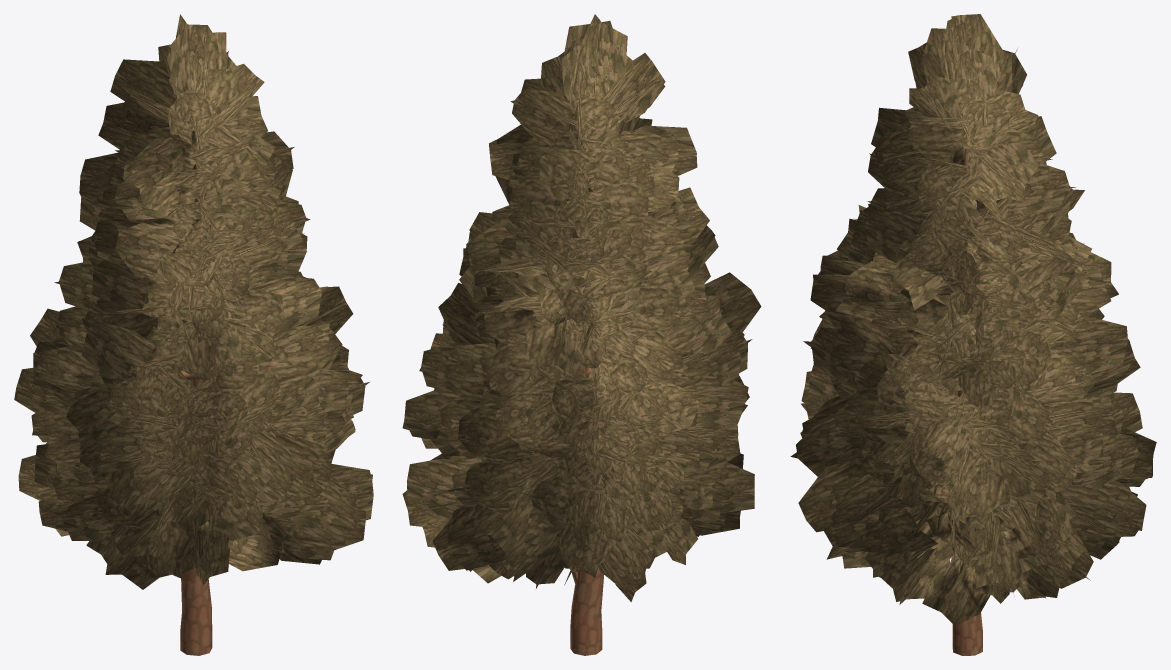
File: P_FirTree1.obj
3 renders of one model, left to right at view 1: azimuth 30°, elevation 25°; view 2: azimuth 150°, elevation 25°; view 3: azimuth 270°, elevation 25°, orthographic.
Size of the model in its own units: 10.72 by 20.68 by 10.89.
